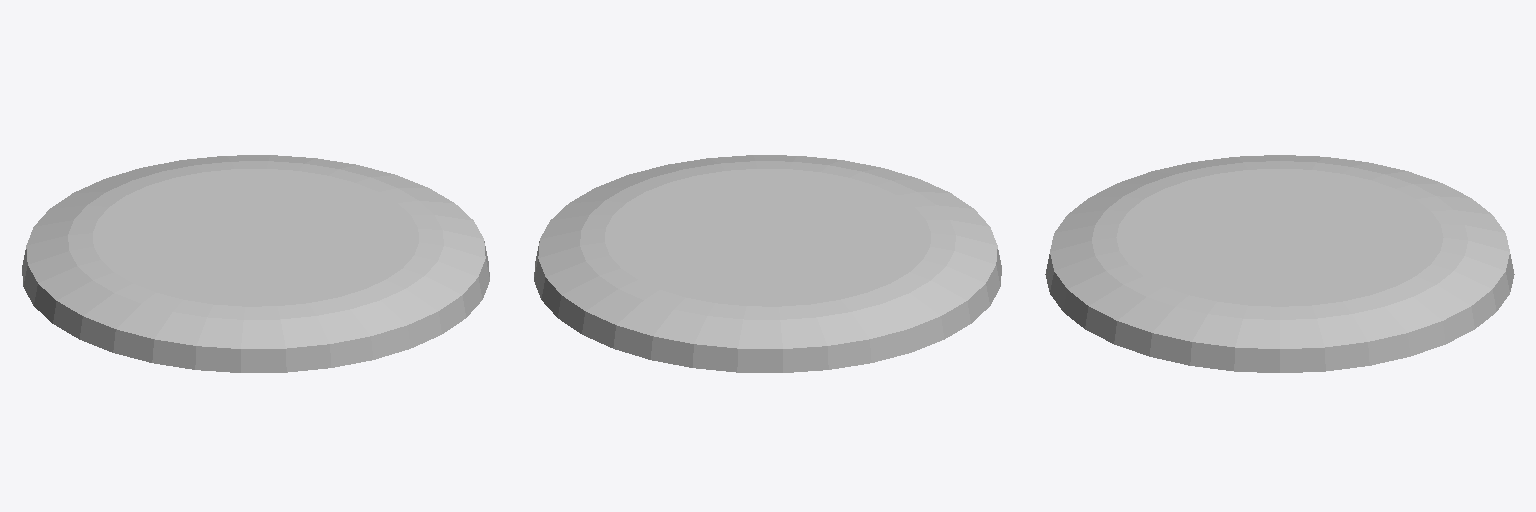
Rendered from Ultrastar.obj.
The picture shows the model from 3 angles: view 1: azimuth 30°, elevation 25°; view 2: azimuth 150°, elevation 25°; view 3: azimuth 270°, elevation 25°; orthographic projection.
Visible parts, largest first — view 1: Cylinder; view 2: Cylinder; view 3: Cylinder.
Part boxes in pixels (x1,y1,x2,y2): Cylinder: (22,155,489,372); Cylinder: (534,155,1001,372); Cylinder: (1045,155,1514,372).
Size of the model in its own units: 21.21 by 1.82 by 21.21.